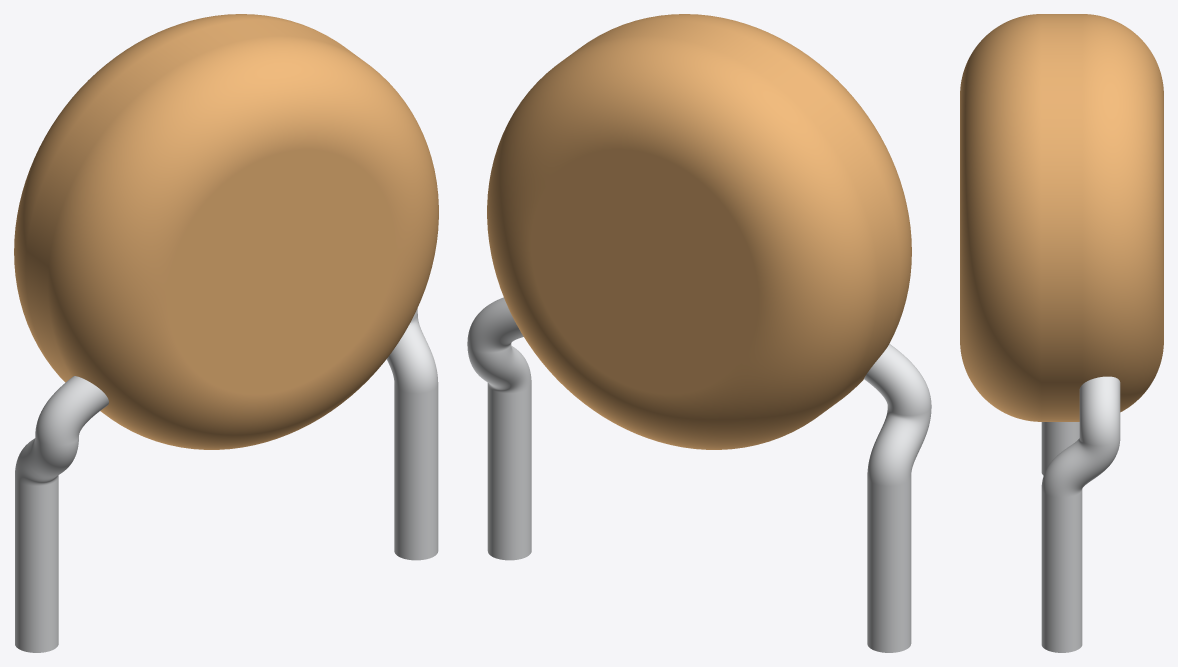
Rendered from ceramic_disc_capacitor_d5_true_scale.glb.
The picture shows the model from 3 angles, left to right: view 1: azimuth 30°, elevation 25°; view 2: azimuth 150°, elevation 25°; view 3: azimuth 270°, elevation 25°; orthographic projection. The views are drawn at different scales.
Parts seen in each view (by area): view 1: coating, lead_L, lead_R; view 2: coating, lead_L, lead_R; view 3: coating, lead_R, lead_L.
Boxes of the visible parts, x1,y1,x2,y2 form: coating: [14, 14, 438, 449]; lead_L: [15, 376, 108, 652]; lead_R: [386, 308, 438, 560]; coating: [487, 14, 911, 449]; lead_L: [864, 344, 931, 652]; lead_R: [467, 297, 531, 560]; coating: [960, 14, 1163, 421]; lead_R: [1041, 376, 1120, 652]; lead_L: [1041, 422, 1079, 475].
Size of the model in its own units: 5.5 by 7.1 by 2.5.
